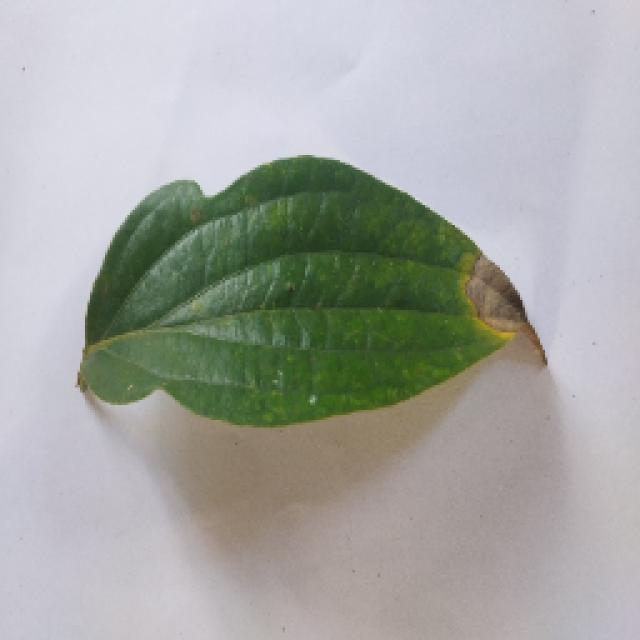footrot: (75, 152, 537, 422)
